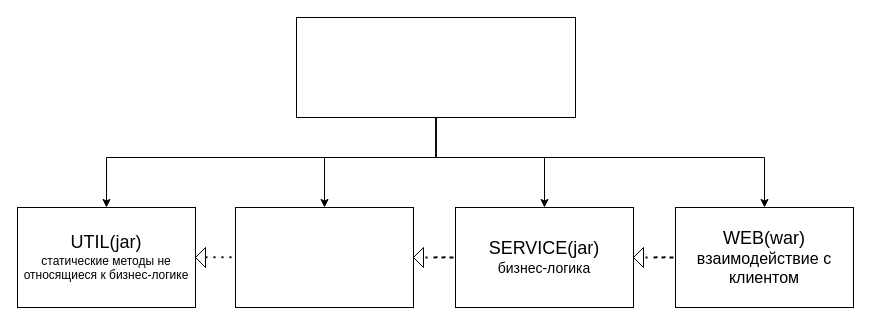
This 871x325 diagram has some shape labels left out. Each missing label, with the centre of its shape:
"DAO(jar) взаимодействие с БД" belongs at pixel 324 257.
"HANDBOOK(pom)" belongs at pixel 436 67.
